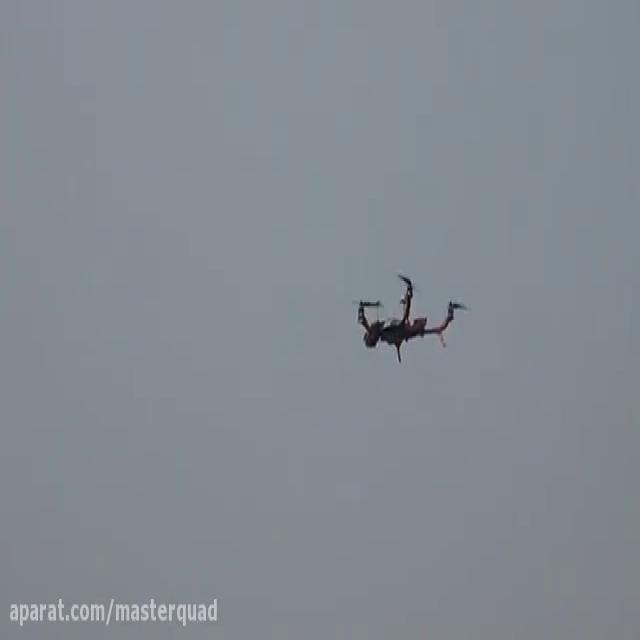drone: (348, 266, 473, 368)
